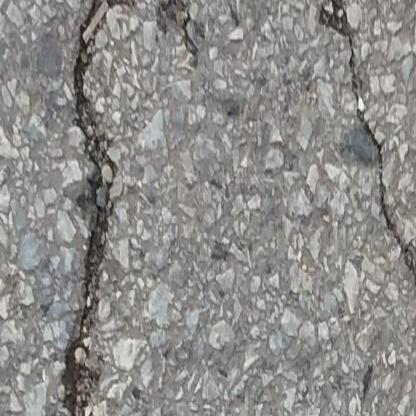Cracks: (319, 0, 416, 345), (56, 0, 132, 416), (159, 0, 204, 58)
